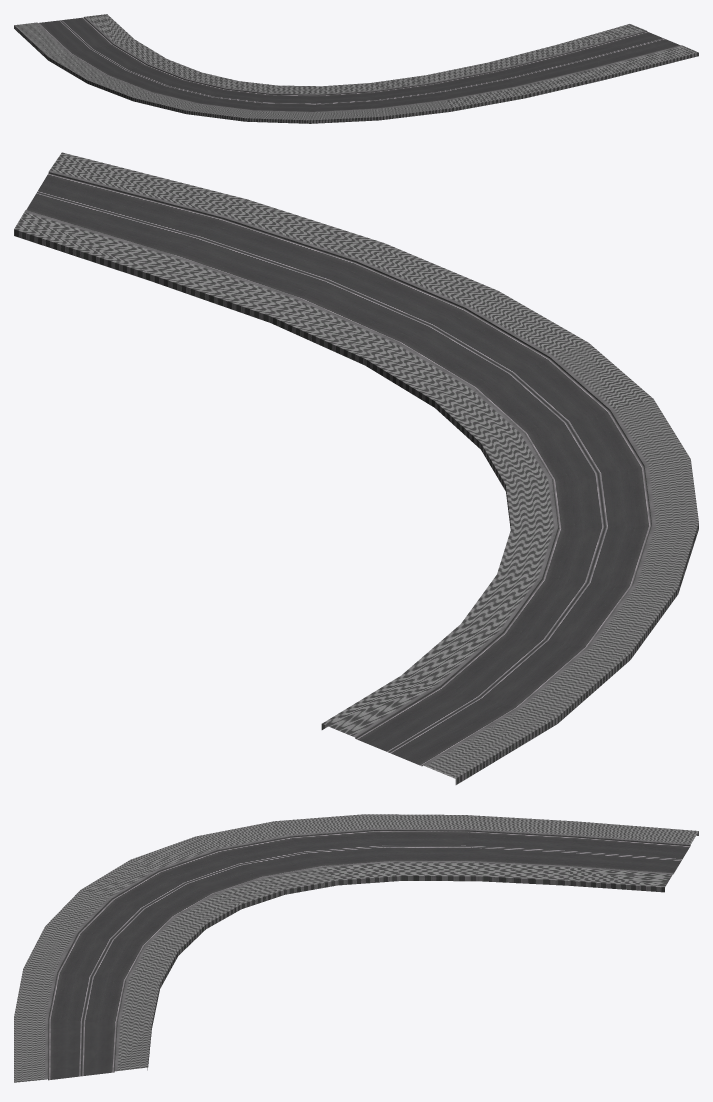
Rendered from road_sfw43.obj.
The picture shows the model from 3 angles, top to bottom: view 1: azimuth 30°, elevation 25°; view 2: azimuth 150°, elevation 25°; view 3: azimuth 270°, elevation 25°; orthographic projection. The views are drawn at different scales.
Parts seen in each view (by area): view 1: road_SFW43; view 2: road_SFW43; view 3: road_SFW43.
Boxes of the visible parts, x1,y1,x2,y2 form: road_SFW43: (14, 14, 698, 123); road_SFW43: (14, 152, 698, 784); road_SFW43: (14, 814, 698, 1082).
Size of the model in its own units: 108 by 9.94 by 99.39.
Materials: 2 (2 with a texture image).
